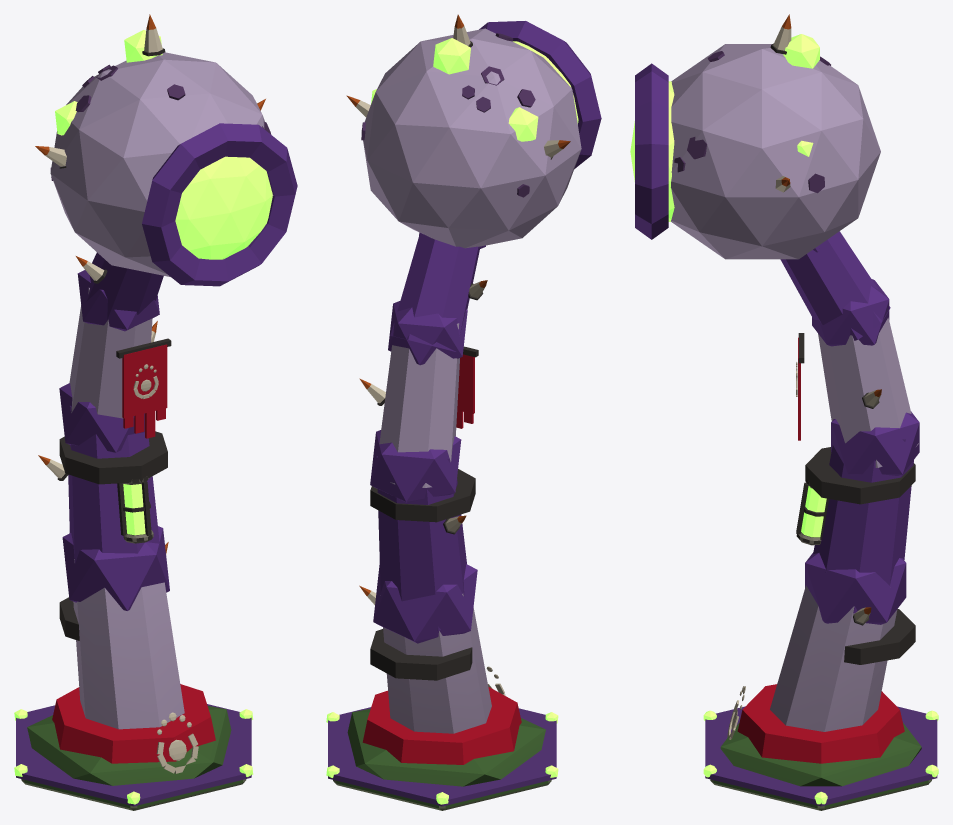
Rendered from sb_tower.glb.
3 views of the same model, side by side, from view 1: azimuth 30°, elevation 25°; view 2: azimuth 150°, elevation 25°; view 3: azimuth 270°, elevation 25° (orthographic). The views are drawn at different scales.
Visible parts, largest first — view 1: sb_tower; view 2: sb_tower; view 3: sb_tower.
Part boxes in pixels (<box>): sb_tower: <box>14,14,297,810</box>; sb_tower: <box>326,14,601,810</box>; sb_tower: <box>630,14,938,810</box>.
Bounding box in the file's own units: 2.74 × 8.34 × 3.13.
